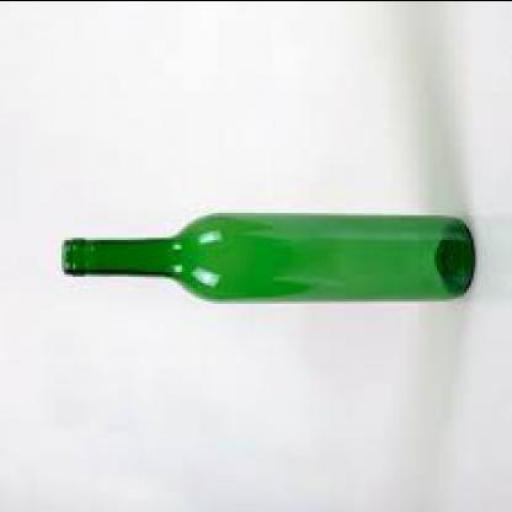glass: (60, 210, 473, 300)
